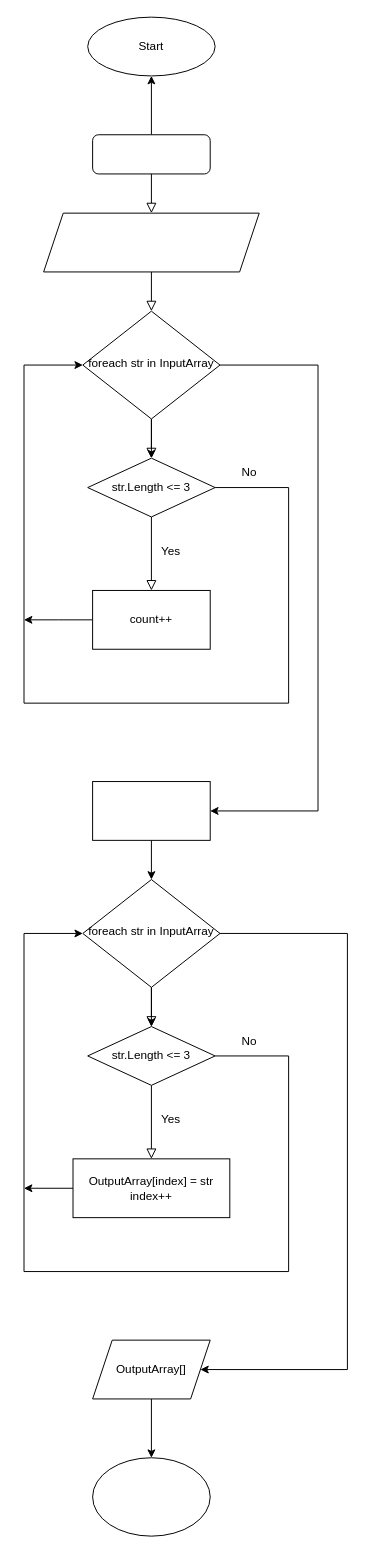
Image size: 372x1553. Some labels were removed from this diagram. The shapes that lost their labels are listed below. From the top down, each one's centre as x and y in pixels, then its label:
At (x=151, y=154): "Ввод".
At (x=151, y=242): "string [] InputArray count = 0".
At (x=151, y=810): "srting [] OutputArray index = 0".
At (x=151, y=1496): "End".
